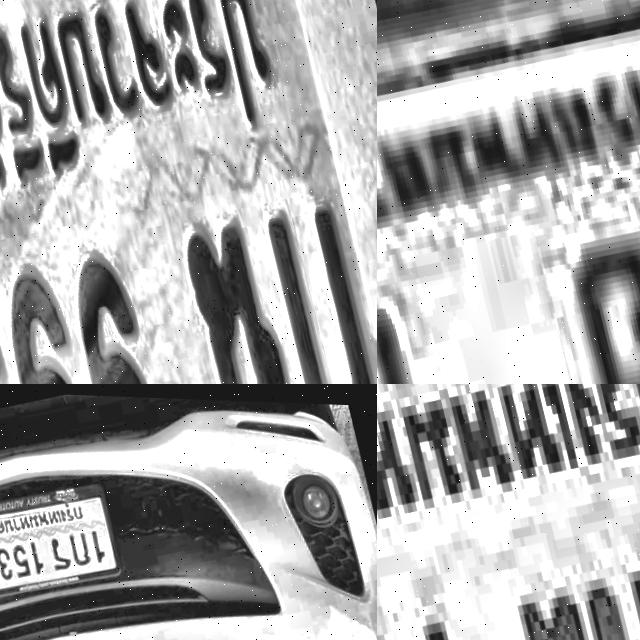license-plate: (0, 0, 377, 384), (377, 0, 640, 384), (377, 384, 640, 640), (0, 466, 125, 608)
